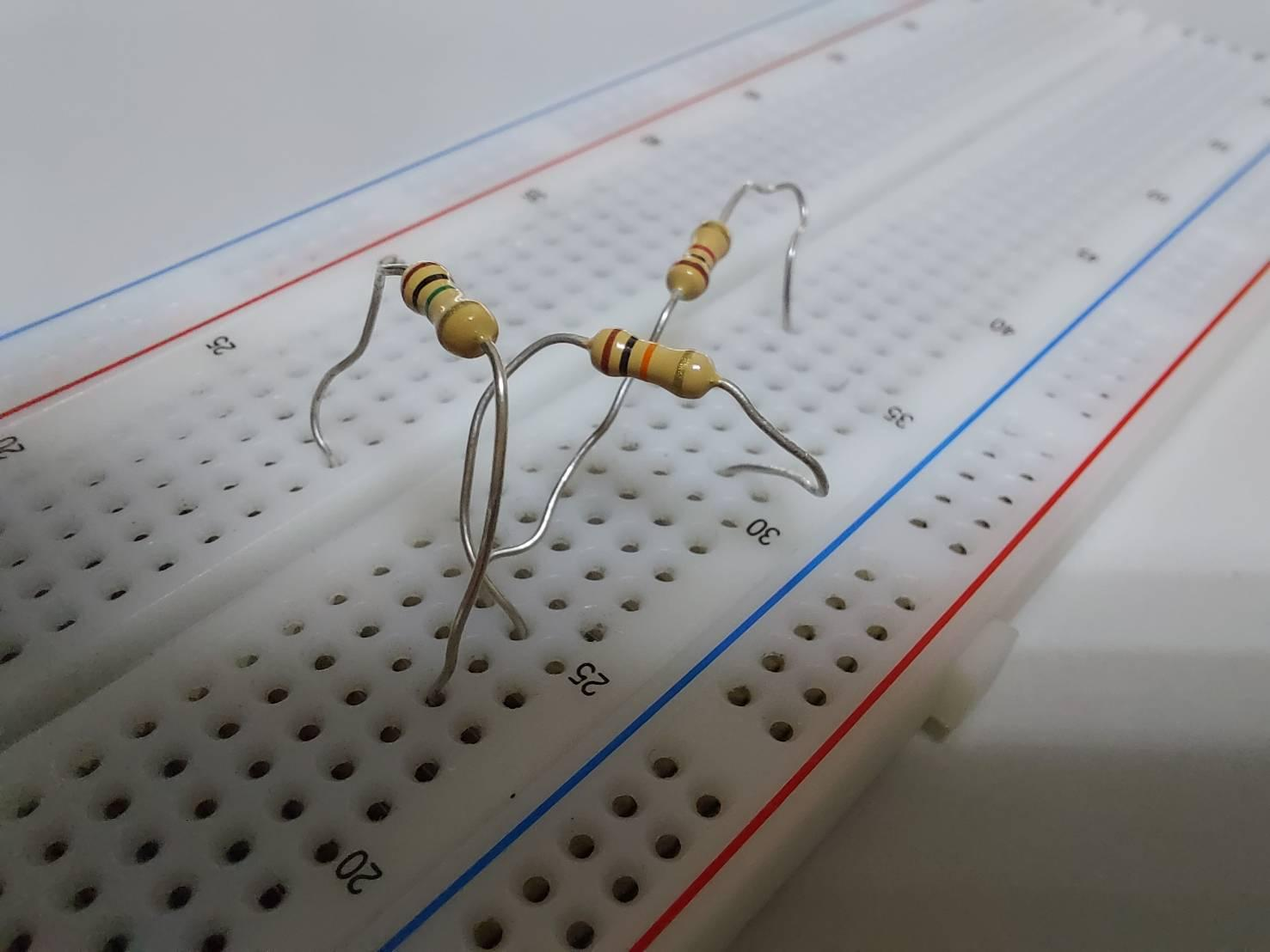resistor: (389, 261, 509, 363), (578, 318, 724, 395), (658, 210, 738, 301)
